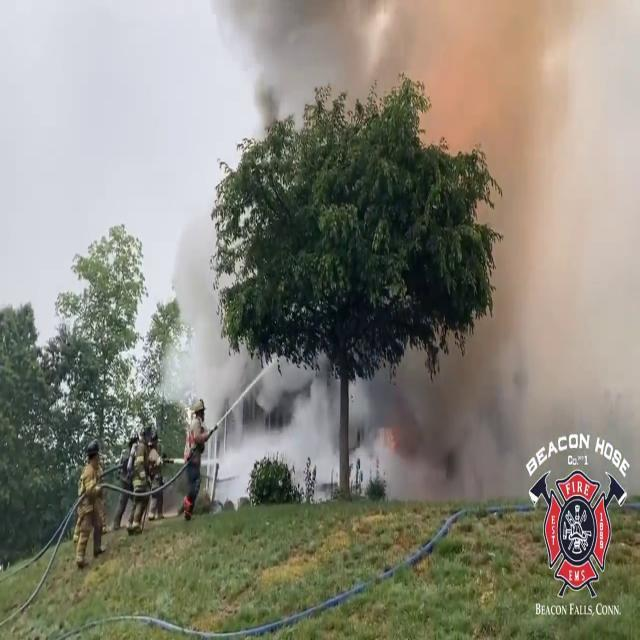Smoke: (406, 1, 640, 476), (206, 321, 342, 497)
